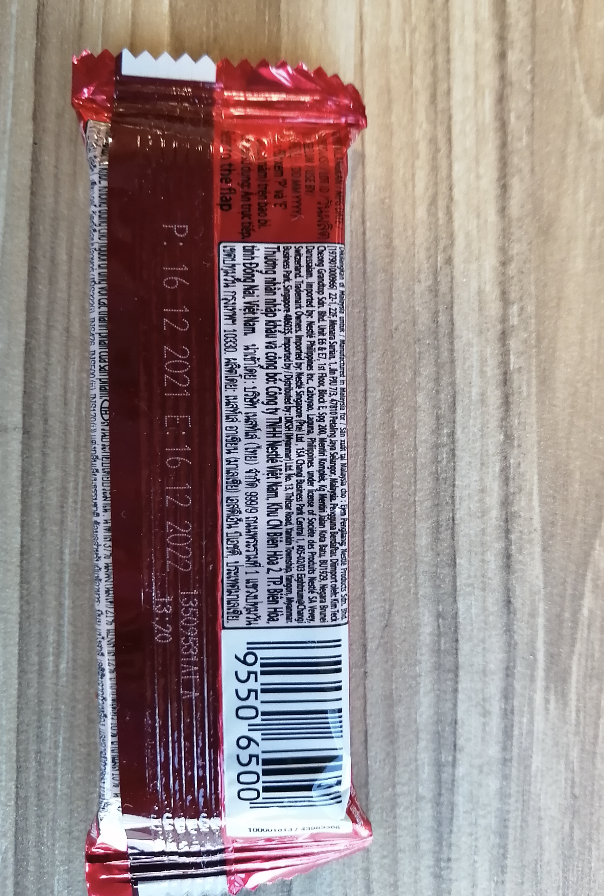Kitkat: (102, 134, 344, 830)
